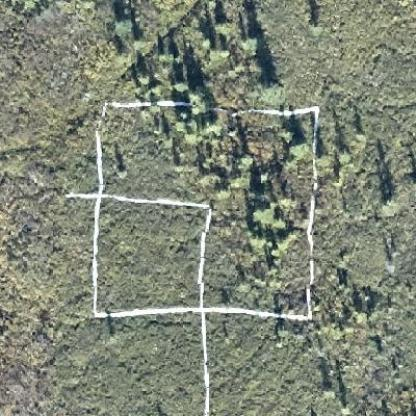tree-top: (258, 74, 284, 104), (249, 199, 276, 224), (286, 132, 310, 157), (187, 84, 208, 112), (212, 14, 236, 36), (109, 14, 132, 36), (131, 32, 153, 55), (375, 192, 396, 216), (233, 148, 254, 171), (332, 142, 352, 165), (240, 32, 259, 51), (132, 69, 153, 86), (304, 18, 321, 35)
